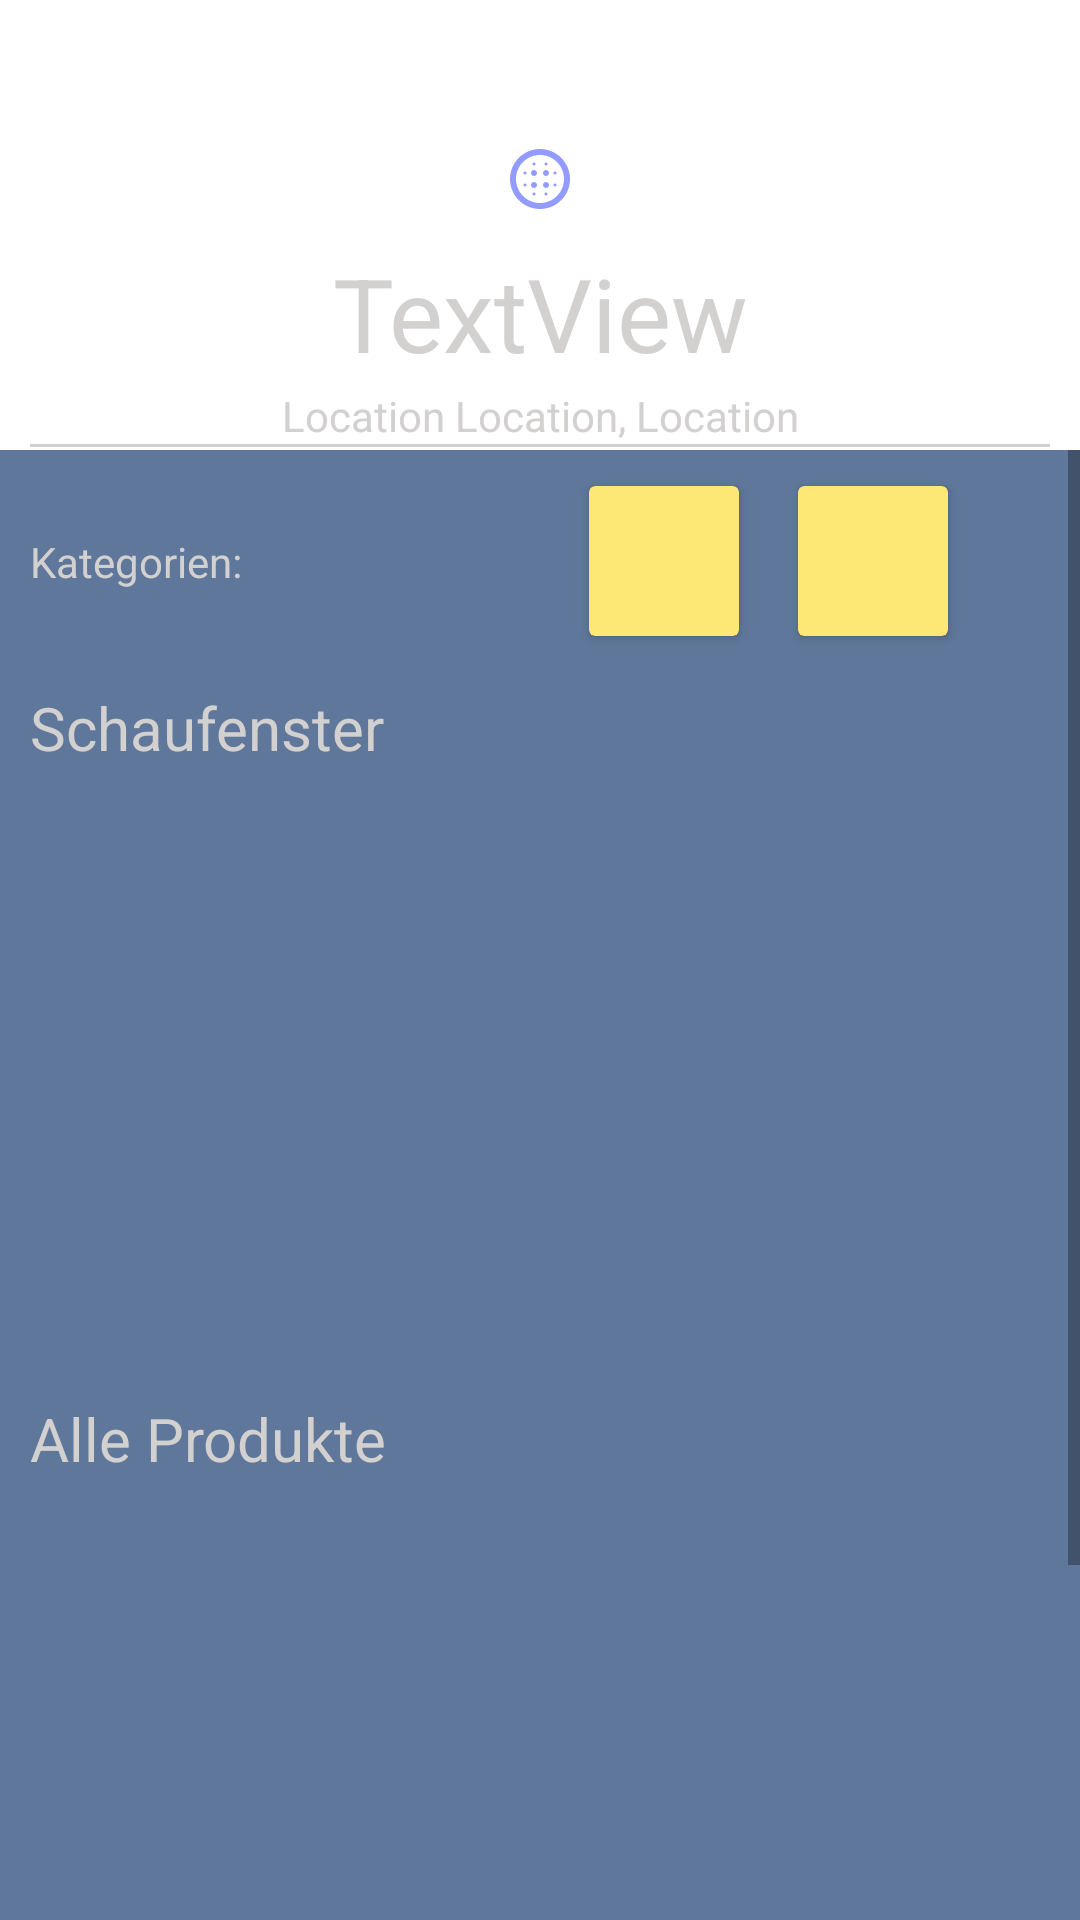

Named icons in this screenshot (1080×1920) and their bounding boxes, (x1, y1, x2, y2):
blur circular: (510, 149, 570, 209)
